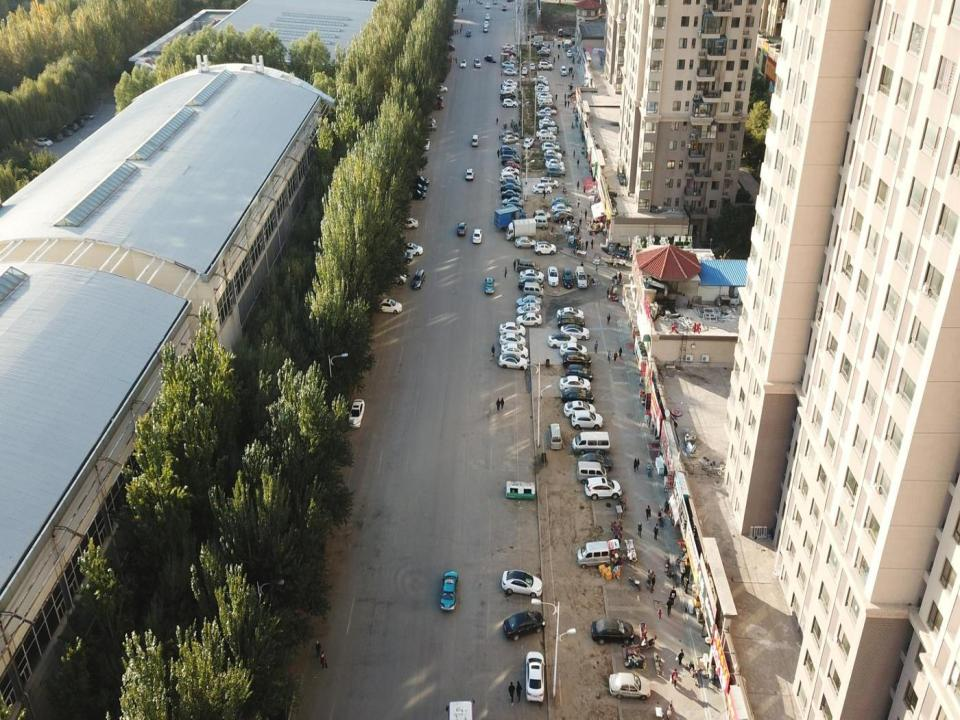car: (503, 608, 545, 642), (502, 569, 542, 597), (526, 652, 546, 706), (608, 675, 651, 699), (591, 619, 633, 643), (584, 480, 620, 500), (441, 571, 458, 611), (562, 388, 594, 407), (580, 452, 612, 471), (571, 411, 602, 430), (564, 401, 596, 419), (560, 375, 591, 393), (498, 354, 527, 372), (566, 363, 592, 382), (562, 352, 591, 369), (348, 399, 365, 428), (561, 324, 590, 340), (500, 343, 529, 358), (548, 334, 577, 348), (557, 314, 585, 328), (560, 344, 588, 358), (381, 270, 407, 285), (516, 313, 542, 328), (498, 333, 524, 348), (500, 323, 526, 337), (556, 308, 584, 321), (392, 250, 414, 266), (375, 299, 402, 312), (519, 269, 545, 282), (516, 258, 540, 272), (534, 241, 556, 256), (411, 268, 426, 290), (400, 242, 423, 256), (516, 304, 542, 316), (514, 236, 536, 249), (516, 297, 541, 308), (412, 174, 430, 188), (553, 212, 574, 224), (575, 268, 587, 288), (546, 166, 566, 178), (553, 196, 571, 209), (547, 267, 558, 287), (563, 268, 574, 288), (400, 218, 418, 230), (543, 152, 561, 164), (499, 172, 520, 182), (540, 177, 559, 188), (502, 177, 521, 188), (77, 108, 94, 120), (408, 189, 425, 201), (500, 154, 520, 164), (500, 184, 520, 194), (501, 198, 523, 207), (410, 182, 426, 194), (532, 184, 551, 194), (546, 158, 565, 168), (539, 121, 556, 132), (552, 205, 572, 214), (542, 142, 560, 152), (502, 191, 521, 200), (456, 221, 466, 238), (65, 120, 79, 132), (430, 100, 444, 112), (472, 229, 483, 244), (34, 138, 52, 147), (544, 150, 562, 159), (486, 275, 494, 295), (502, 98, 518, 108), (534, 210, 550, 220), (500, 146, 516, 156), (502, 130, 518, 140), (500, 168, 520, 176), (50, 130, 63, 142), (59, 125, 72, 137), (422, 122, 437, 132), (537, 92, 552, 102), (536, 130, 554, 138), (534, 109, 550, 118), (505, 161, 519, 171), (541, 107, 558, 115), (538, 61, 553, 70), (523, 137, 535, 148), (72, 118, 85, 128), (502, 136, 518, 144), (539, 119, 555, 127), (429, 93, 443, 102), (466, 166, 474, 181), (421, 116, 436, 124), (500, 92, 515, 100), (485, 54, 497, 63), (422, 138, 430, 151), (500, 61, 513, 69), (502, 49, 515, 57), (434, 85, 448, 92), (503, 68, 517, 75), (535, 83, 549, 90), (443, 43, 455, 51), (504, 79, 516, 87), (500, 88, 513, 95), (502, 84, 515, 91), (502, 43, 515, 50), (537, 50, 550, 57), (535, 80, 548, 87), (538, 47, 550, 54), (532, 40, 544, 47), (536, 87, 549, 93), (560, 66, 567, 76), (538, 97, 552, 102), (538, 44, 549, 50), (534, 76, 547, 81), (473, 60, 481, 68), (566, 50, 573, 57), (460, 60, 466, 68), (522, 67, 528, 75), (483, 21, 489, 27), (485, 1, 490, 8), (466, 30, 471, 37), (571, 37, 576, 44), (502, 5, 507, 11), (484, 26, 488, 33), (486, 14, 490, 20), (530, 63, 534, 69)
truck: (494, 206, 526, 228), (505, 220, 537, 238), (558, 28, 571, 36)
van: (571, 431, 610, 453), (576, 541, 610, 565), (576, 461, 608, 486), (547, 424, 563, 450), (522, 281, 544, 298), (542, 140, 560, 151), (533, 216, 547, 229), (540, 136, 556, 144), (539, 99, 552, 107), (471, 135, 479, 146)
